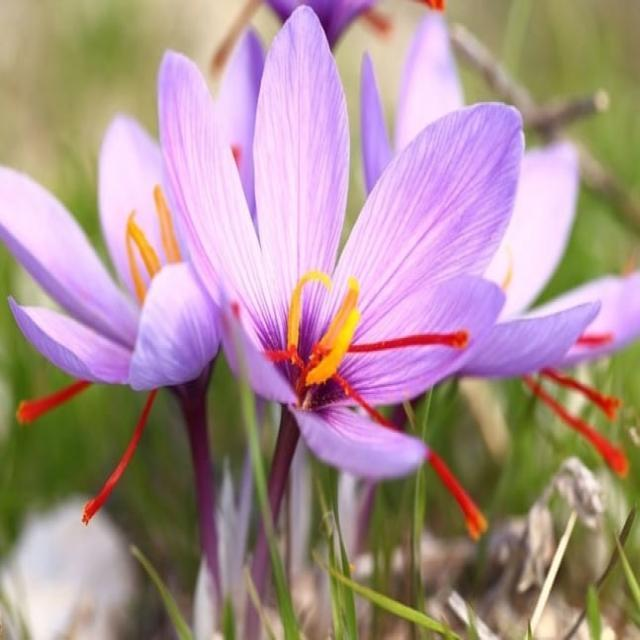Flower: (194, 104, 496, 464), (38, 161, 257, 375)
stigma: (82, 390, 162, 530), (524, 376, 624, 479), (426, 455, 495, 548), (346, 329, 472, 376), (546, 360, 620, 418), (15, 380, 81, 436)
